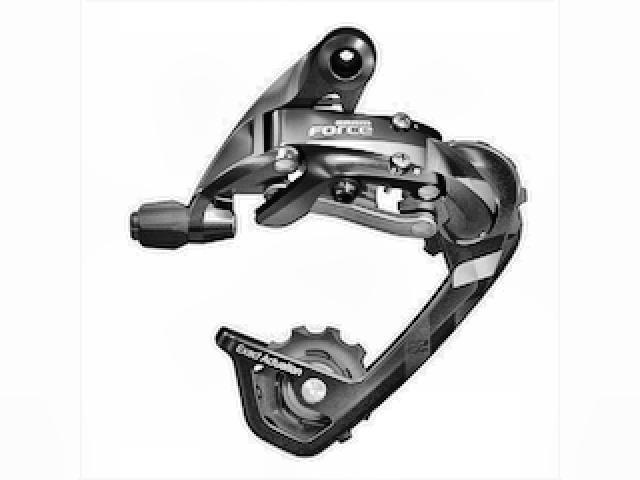rear_derailleur: (123, 24, 533, 456)
